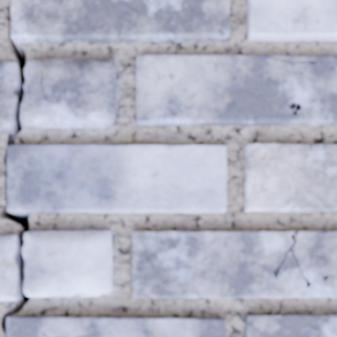brick: (9, 145, 226, 212), (136, 56, 336, 125), (133, 232, 336, 297), (12, 0, 230, 42), (246, 144, 336, 211), (7, 317, 225, 336), (248, 0, 336, 40), (246, 315, 336, 336)
broken_brick: (22, 57, 117, 128), (25, 231, 113, 297), (0, 234, 18, 302), (0, 61, 16, 132)
crack: (0, 2, 31, 334), (273, 231, 311, 289), (265, 55, 318, 65)
